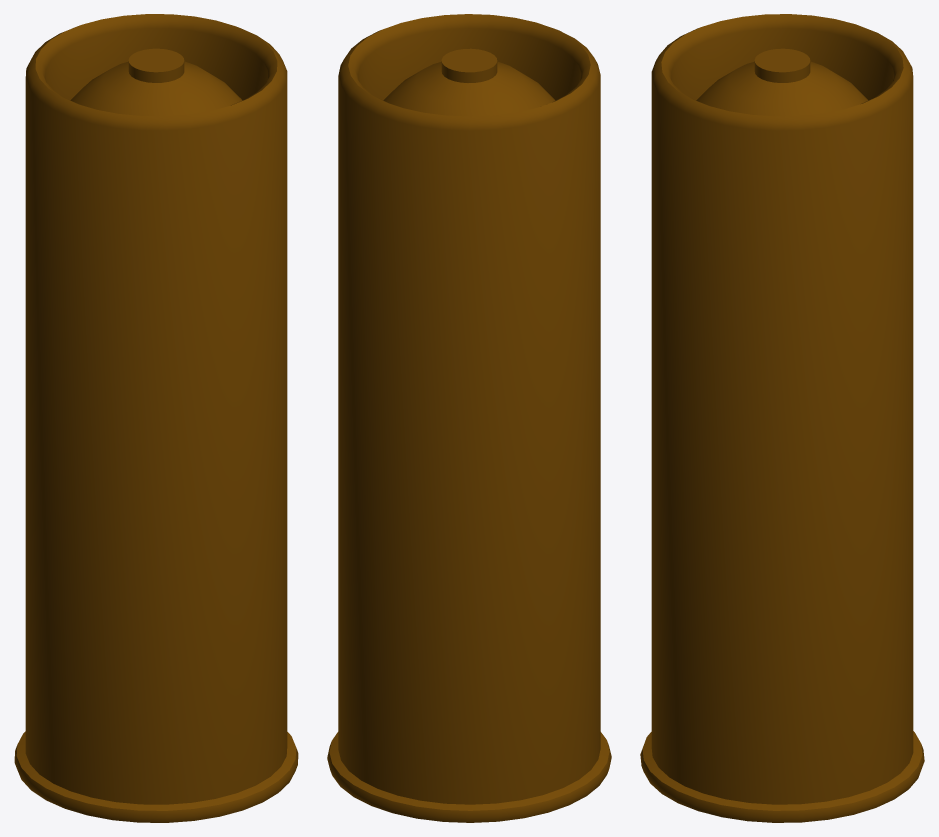
The model's file is 12gauge.fbx.
The picture shows the model from 3 angles, left to right: view 1: azimuth 30°, elevation 25°; view 2: azimuth 150°, elevation 25°; view 3: azimuth 270°, elevation 25°; orthographic projection.
Visible parts, largest first — view 1: Bullets011; view 2: Bullets011; view 3: Bullets011.
Part boxes in pixels (<box>): Bullets011: <box>14,14,298,822</box>; Bullets011: <box>327,14,611,822</box>; Bullets011: <box>640,14,924,822</box>.
Size of the model in its own units: 1.43 by 3.91 by 1.43.
